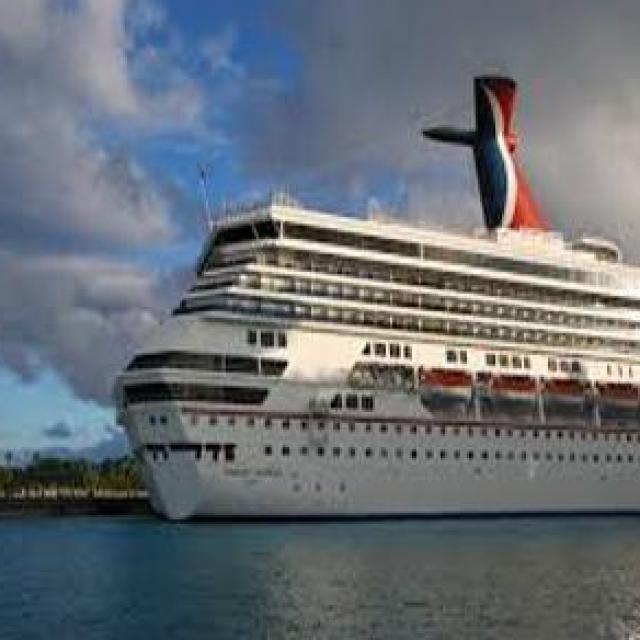passenger ship: (118, 191, 640, 528)
